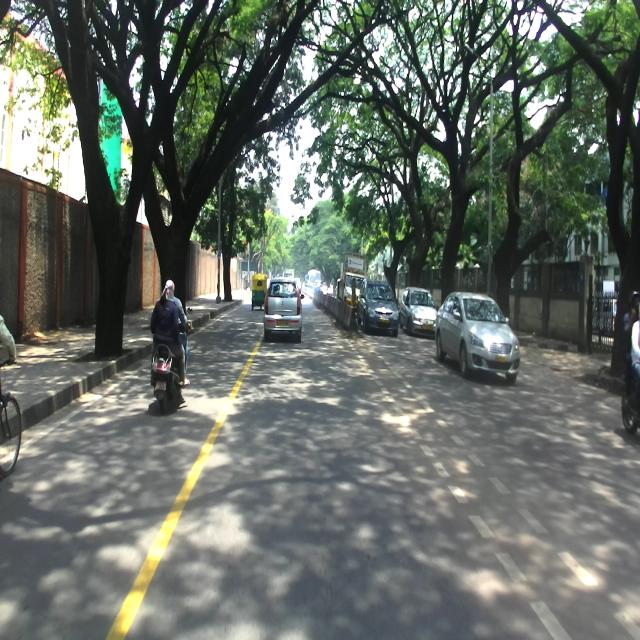car ahead at: (432, 287, 522, 385), (259, 277, 306, 335)
motorcycle ahead at: (148, 342, 194, 418)
tree ahead at: (74, 99, 143, 373)
